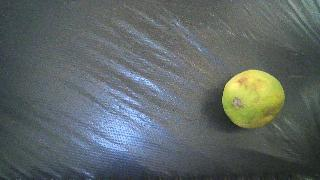DESECHO: (222, 70, 285, 129)
